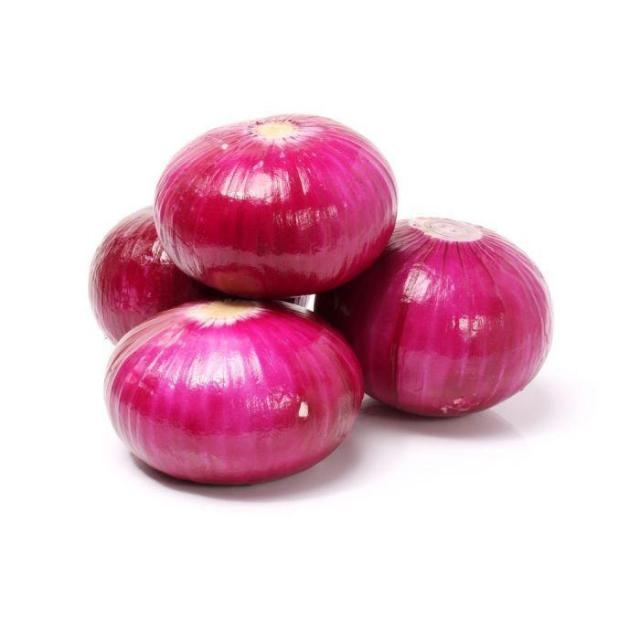Onion: (103, 296, 366, 487), (313, 216, 551, 422), (154, 110, 402, 298), (93, 210, 307, 348)
